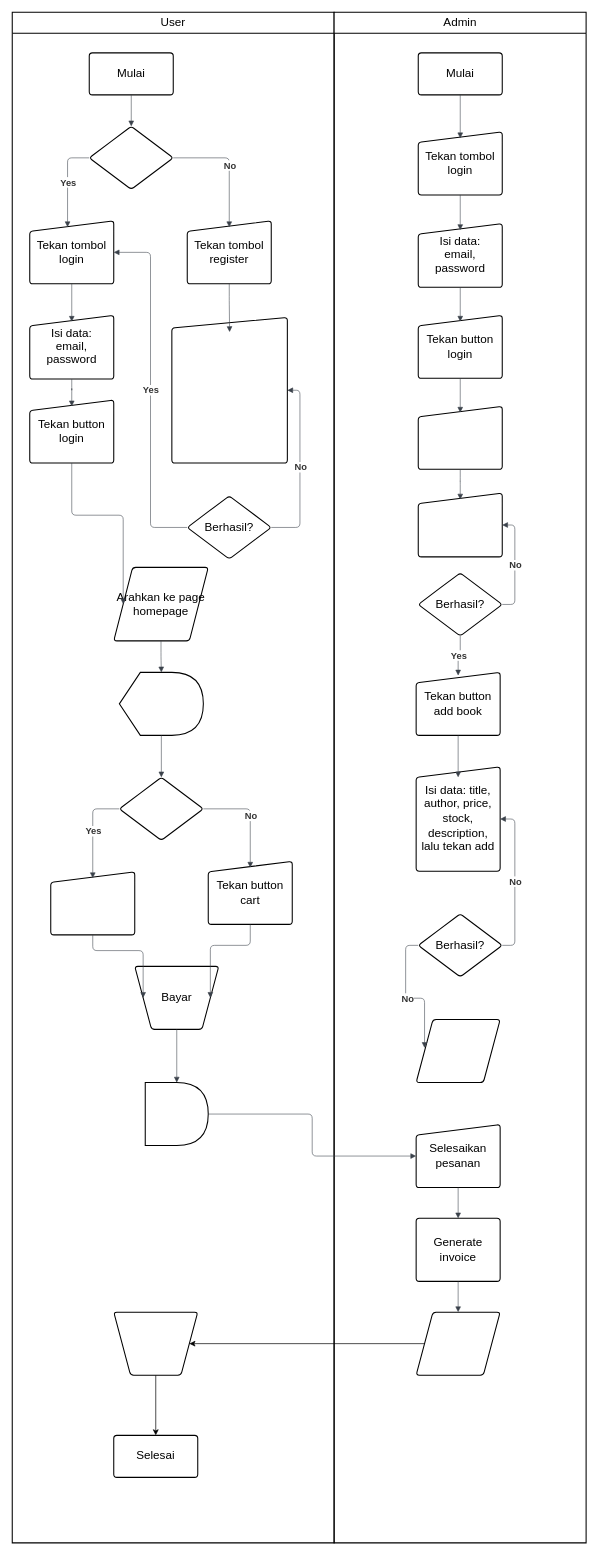
The diagram is 599 pixels wide and 1556 high, and some of its shapes have lost their labels. Here are the shapes that lost their labels. From the top down, the centre of each, then its label:
At point (130, 158): "Punya akun?".
At point (229, 390): "Isi data: email, first name, last name, password, confirm_password".
At point (459, 438): "Tekan button add category".
At point (459, 524): "Isi data: name, lalu tekan add".
At point (161, 704): "Perlihatkan produk".
At point (161, 809): "Langsung beli?".
At point (92, 903): "Tekan button order".
At point (457, 1051): "Produk berhasil dibuat".
At point (176, 1114): "Tunggu konfirmasi admin".
At point (155, 1343): "Serahkan ke user".
At point (457, 1343): "Print invoice".
